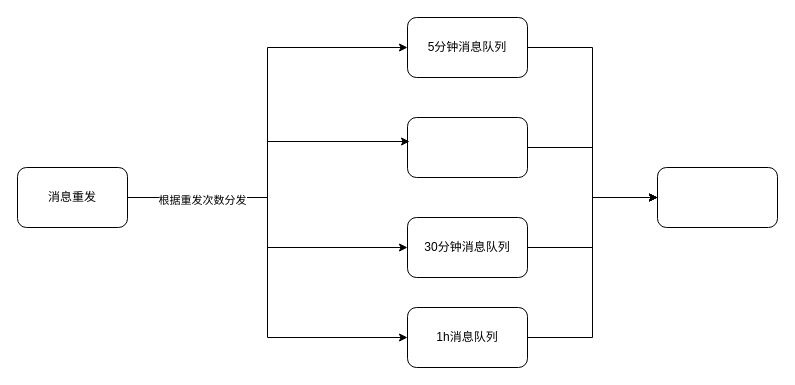
The diagram is 795 pixels wide and 385 high, and some of its shapes have lost their labels. Here are the shapes that lost their labels. From the top down, the centre of each, then its label:
At point (467, 147): "15分钟消息队列".
At point (717, 197): "消息下发".
